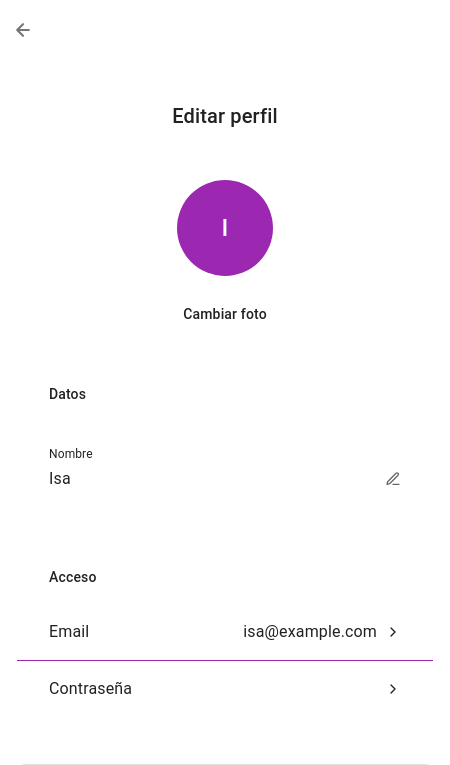
Test: Given the edit profile screen › When the user saves a new name › Then it is sent with the CSRF token and the profile shows it
Replace the text in the field labelled "Nombre" with "  Isabel ": [209, 479] box [49, 463, 369, 495]
(page scrolled)
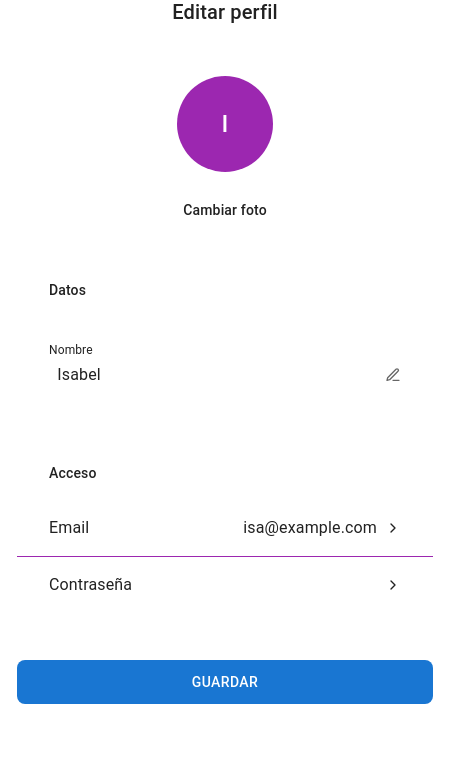
Click the button "Guardar": [225, 682] box [17, 660, 433, 704]
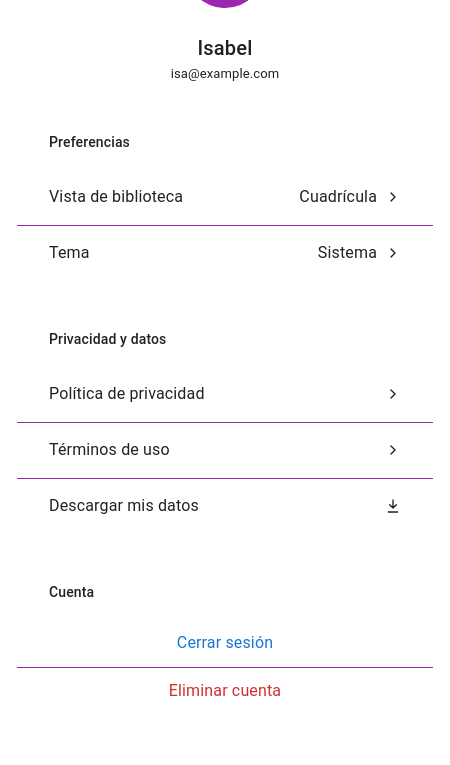
Result: the heading "Isabel" is shown at [198, 36, 252, 60]
